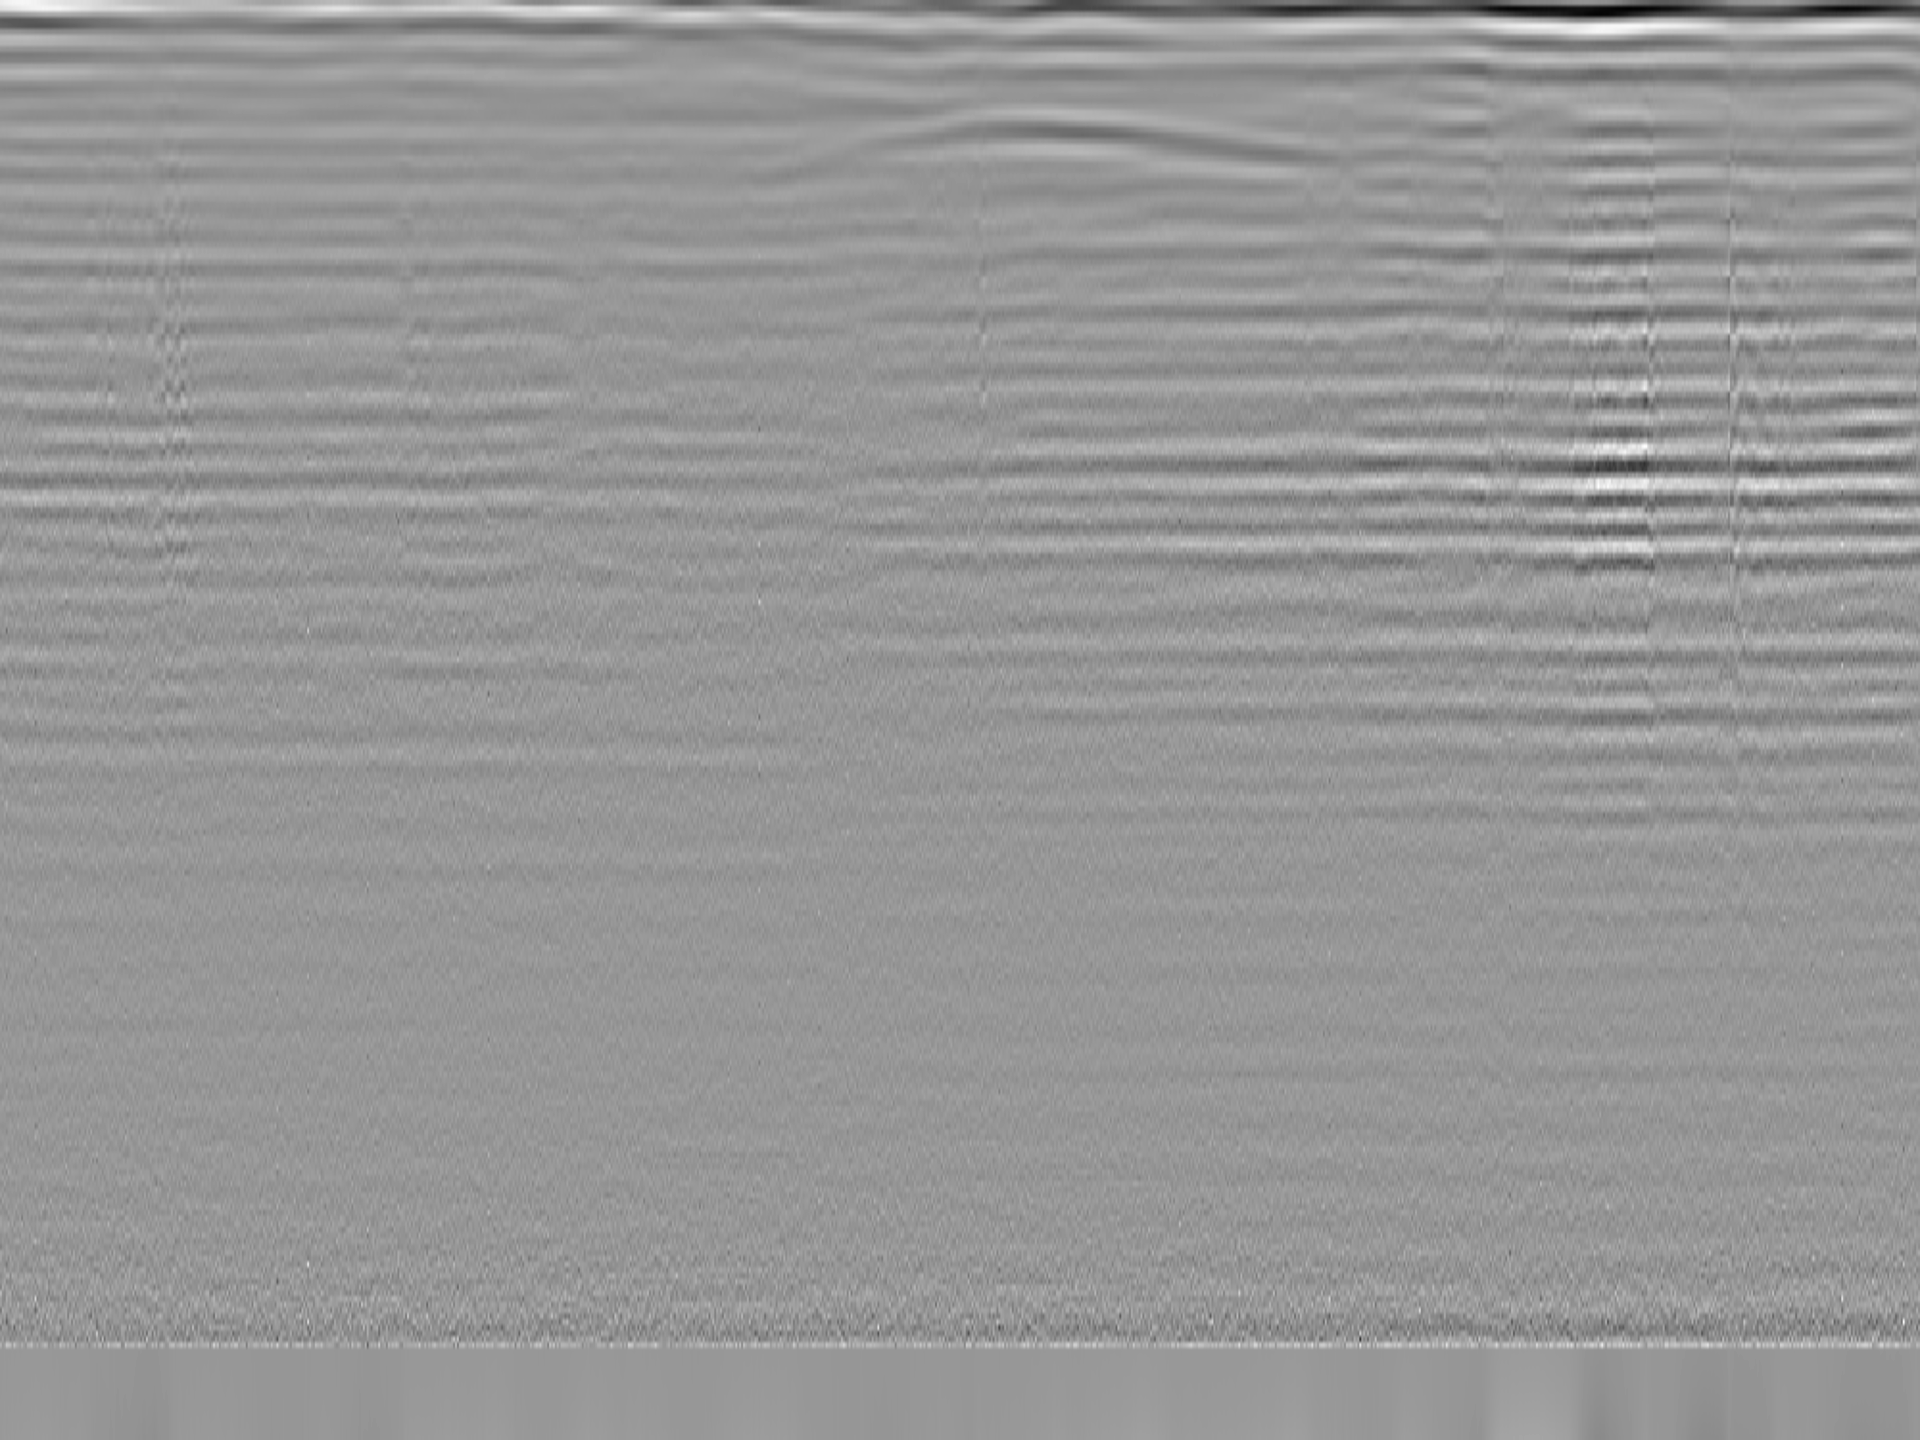Tunnel: (732, 112, 1395, 175)
